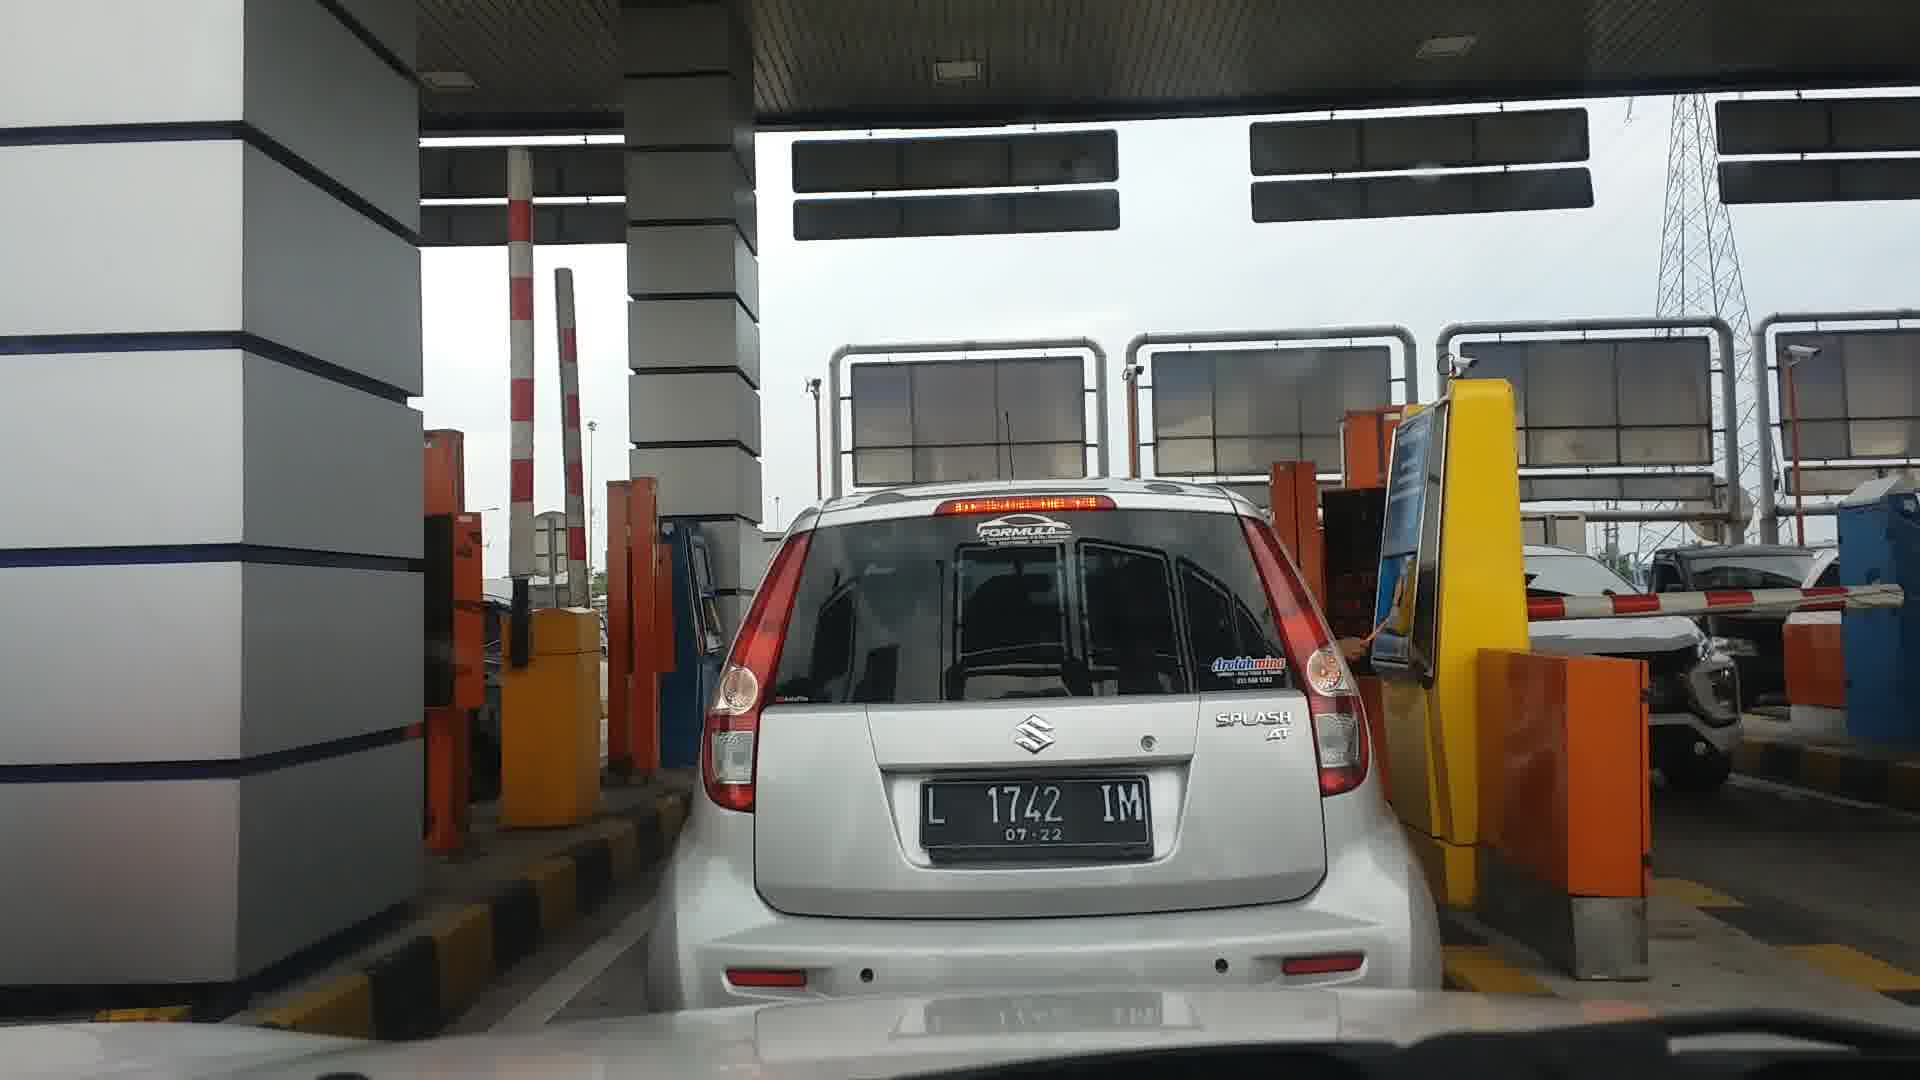plate_positive: (919, 775, 1154, 861)
